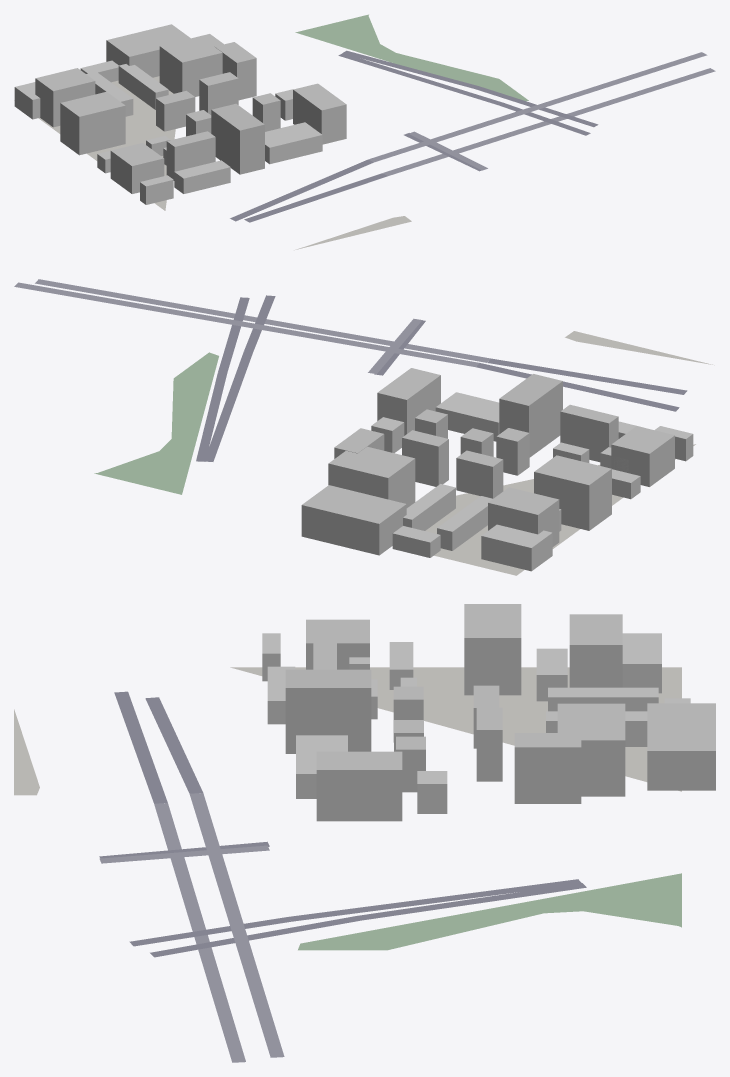
File: 119_115_mid.glb
3 renders of one model, top to bottom at view 1: azimuth 30°, elevation 25°; view 2: azimuth 150°, elevation 25°; view 3: azimuth 270°, elevation 25°, orthographic. The views are drawn at different scales.
Size of the model in its own units: 730 by 55.09 by 526.
